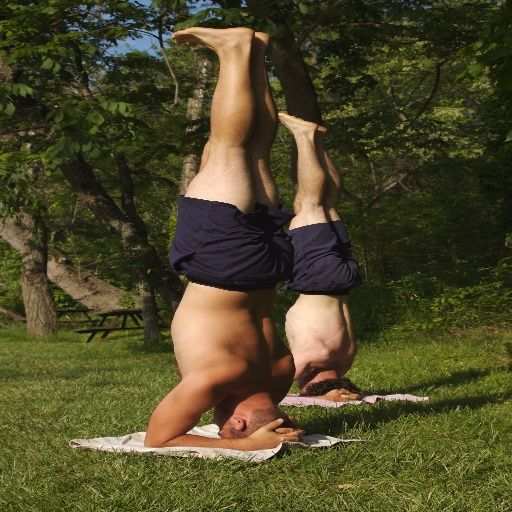hand: (218, 421, 308, 451), (273, 414, 308, 443), (318, 388, 361, 403), (338, 388, 359, 401)
